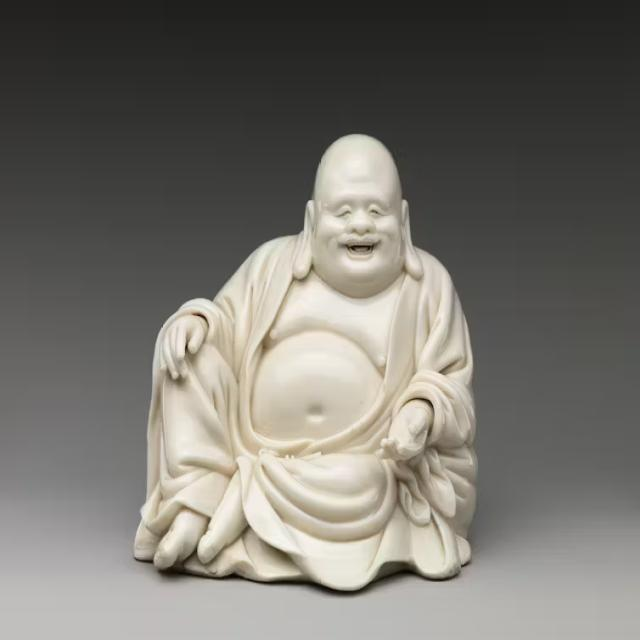Smiling Buddha: (234, 126, 447, 515)
